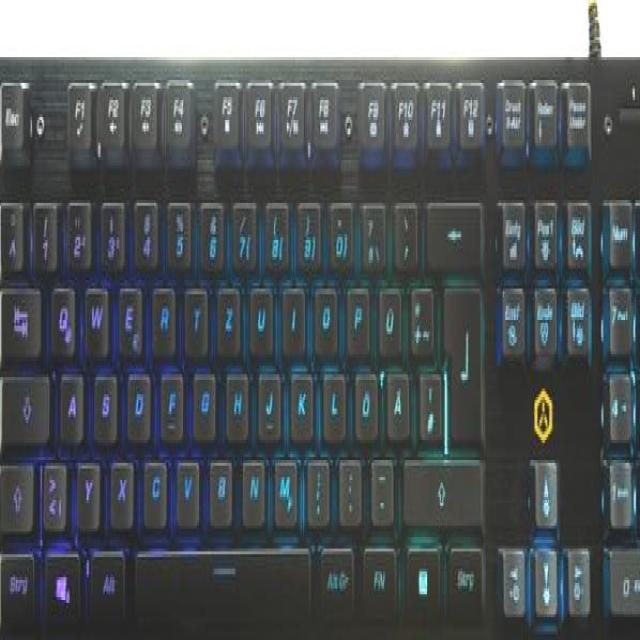0: (325, 191, 352, 266)
1: (30, 191, 56, 266)
2: (63, 191, 90, 266)
3: (98, 192, 125, 269)
4: (131, 191, 158, 266)
5: (164, 191, 191, 266)
6: (196, 192, 223, 269)
7: (229, 191, 255, 266)
8: (260, 192, 288, 269)
9: (293, 191, 320, 266)
a: (57, 366, 81, 437)
accent: (390, 194, 415, 263)
ae: (383, 360, 408, 434)
alt-left: (87, 543, 124, 623)
altgr-right: (316, 537, 352, 617)
b: (206, 449, 231, 520)
c: (140, 451, 166, 523)
caret: (0, 191, 21, 268)
comma: (303, 449, 327, 520)
d: (124, 363, 149, 437)
del: (422, 194, 480, 266)
e: (115, 277, 140, 354)
enter: (439, 274, 480, 443)
f: (157, 363, 182, 437)
g: (189, 363, 214, 437)
h: (223, 363, 247, 437)
hash: (415, 363, 440, 437)
i: (278, 277, 303, 349)
j: (255, 363, 278, 437)
k: (287, 363, 311, 437)
keyboard: (0, 48, 640, 640)
l: (320, 363, 344, 434)
less: (39, 451, 64, 526)
m: (270, 448, 295, 523)
minus: (367, 449, 392, 520)
n: (239, 451, 263, 520)
o: (310, 277, 336, 352)
oe: (351, 363, 376, 434)
p: (344, 277, 368, 352)
plus: (406, 277, 431, 352)
point: (335, 449, 360, 520)
q: (47, 277, 74, 352)
r: (149, 277, 174, 352)
s: (90, 366, 115, 437)
shift-left: (0, 457, 32, 529)
shift-lock: (0, 368, 48, 443)
shift-right: (401, 451, 480, 523)
space: (130, 540, 308, 617)
ss: (358, 194, 383, 266)
strg-left: (0, 543, 33, 626)
strg-right: (443, 537, 482, 617)
t: (181, 277, 206, 352)
tab: (0, 280, 40, 357)
u: (246, 277, 271, 352)
ue: (375, 277, 399, 352)
v: (172, 449, 198, 520)
w: (81, 277, 107, 352)
x: (107, 451, 132, 523)
y: (73, 454, 98, 526)
z: (213, 277, 239, 352)
